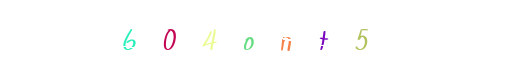0: (138, 0, 218, 80)
4: (206, 0, 286, 80)
5: (322, 0, 402, 80)
6: (129, 0, 209, 80)
N: (212, 0, 292, 80)
O: (211, 0, 291, 80)
T: (283, 0, 363, 80)
